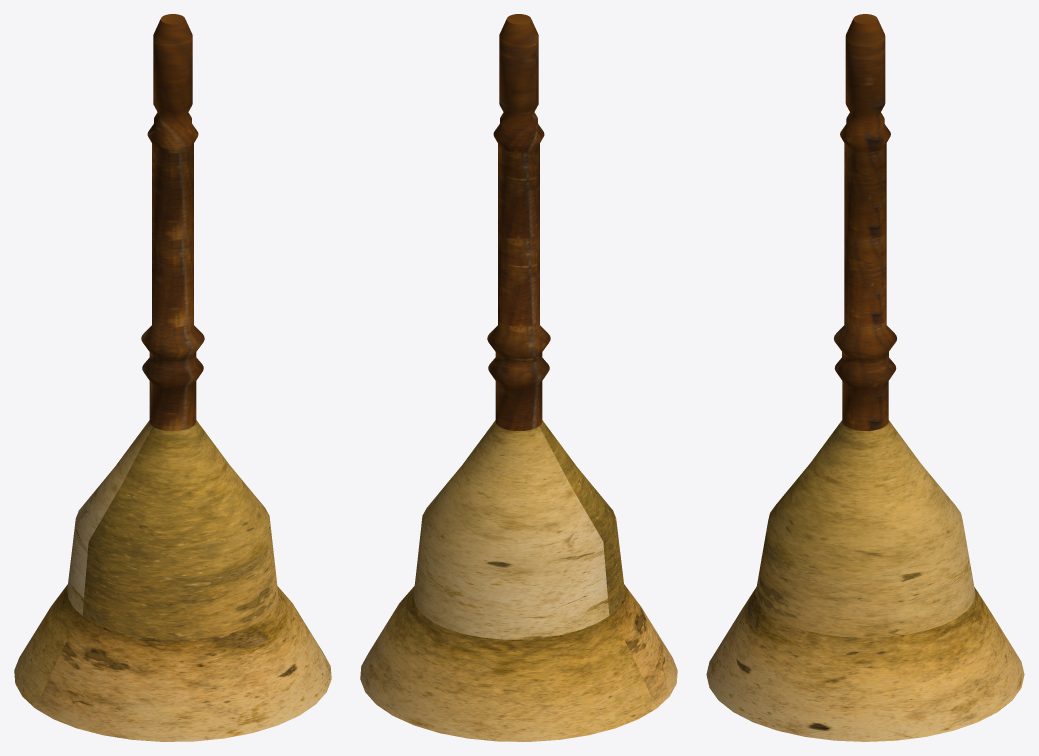
Rendered from rusty bell.fbx.
3 views of the same model, side by side, from view 1: azimuth 30°, elevation 25°; view 2: azimuth 150°, elevation 25°; view 3: azimuth 270°, elevation 25° (orthographic).
Parts seen in each view (by area): view 1: BELL; view 2: BELL; view 3: BELL.
Boxes of the visible parts, x1,y1,x2,y2 form: BELL: [14, 14, 331, 741]; BELL: [360, 14, 677, 741]; BELL: [706, 14, 1024, 741].
Size of the model in its own units: 208 by 474 by 208.
